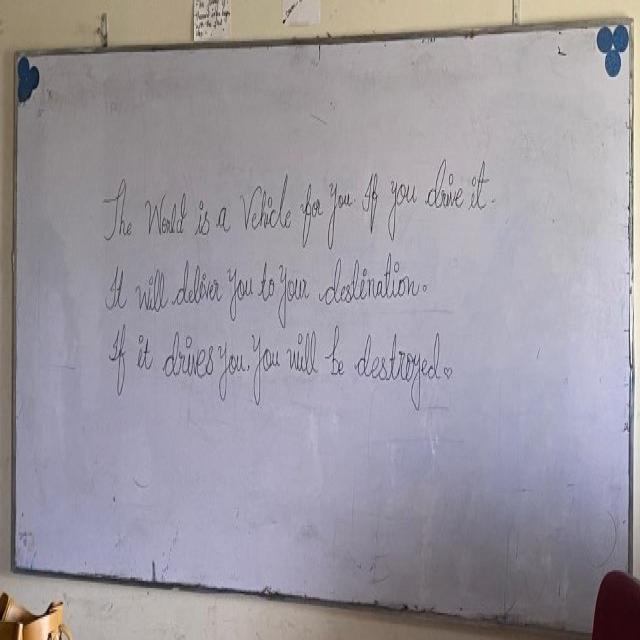White-board: (16, 16, 631, 634)
